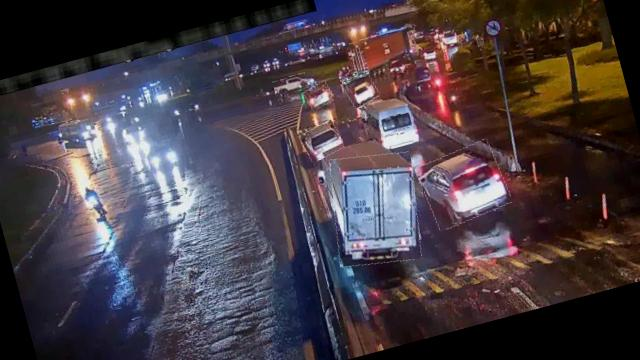Bike: (80, 182, 108, 221)
Bus: (359, 94, 422, 158), (342, 69, 379, 108)
Car: (415, 139, 513, 231), (299, 118, 345, 162), (304, 80, 334, 110), (272, 72, 309, 96)
Truck: (318, 142, 433, 274), (350, 25, 420, 77)
